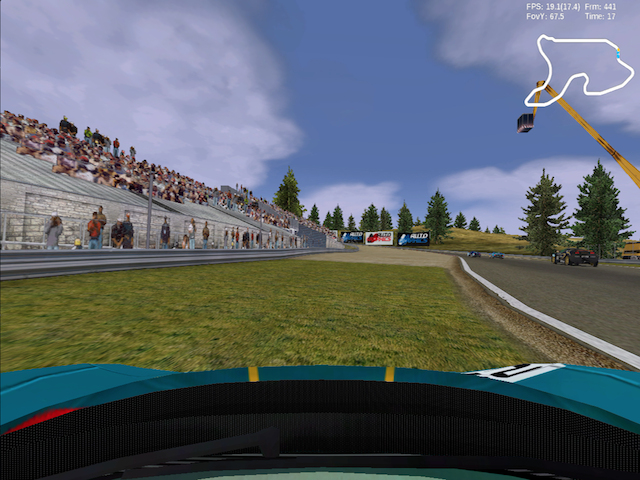FMC_GT4: (468, 252, 481, 258)
Lynx220: (489, 252, 505, 260)
Spirit300: (550, 247, 599, 268)
